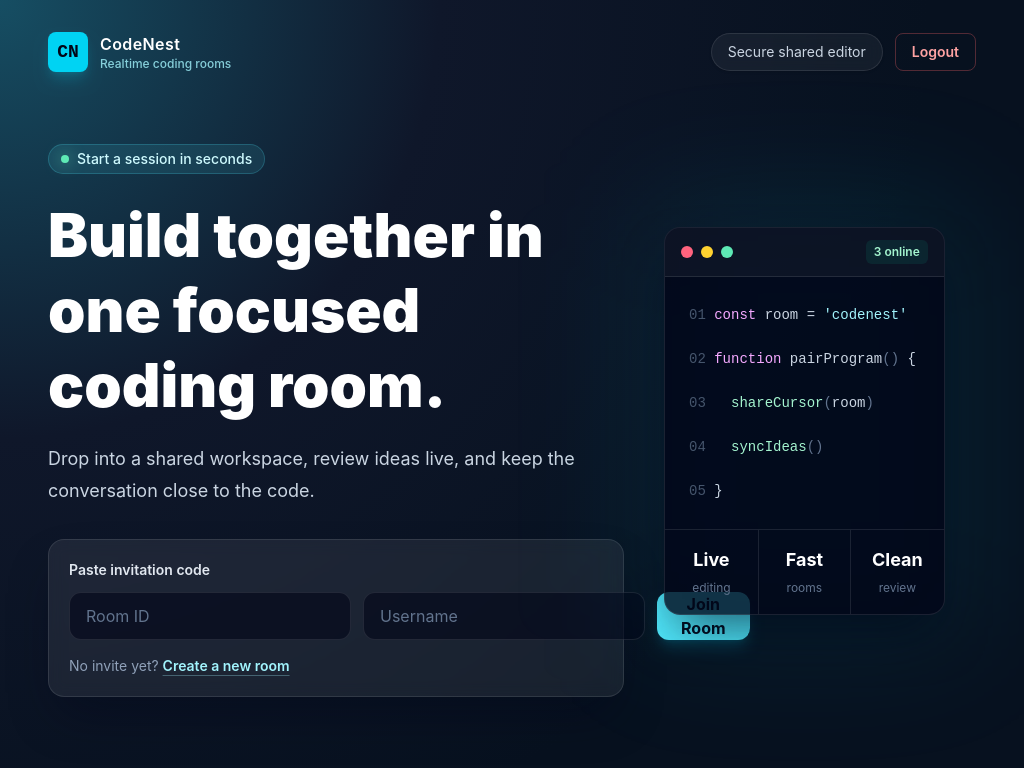
Home component › creates a room successfully
Click the link "Create a new room": x=226, y=666 [163,657,290,674]
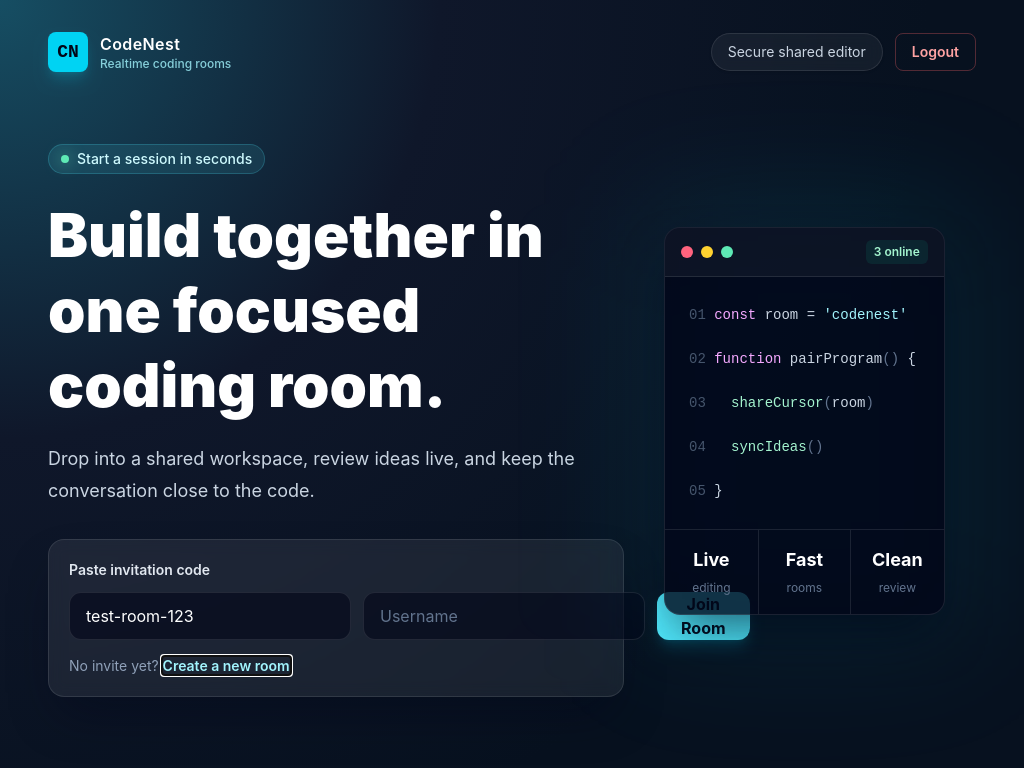
Check: the field with placeholder "Room ID" holds "test-room-123", box [69,592,351,640]
